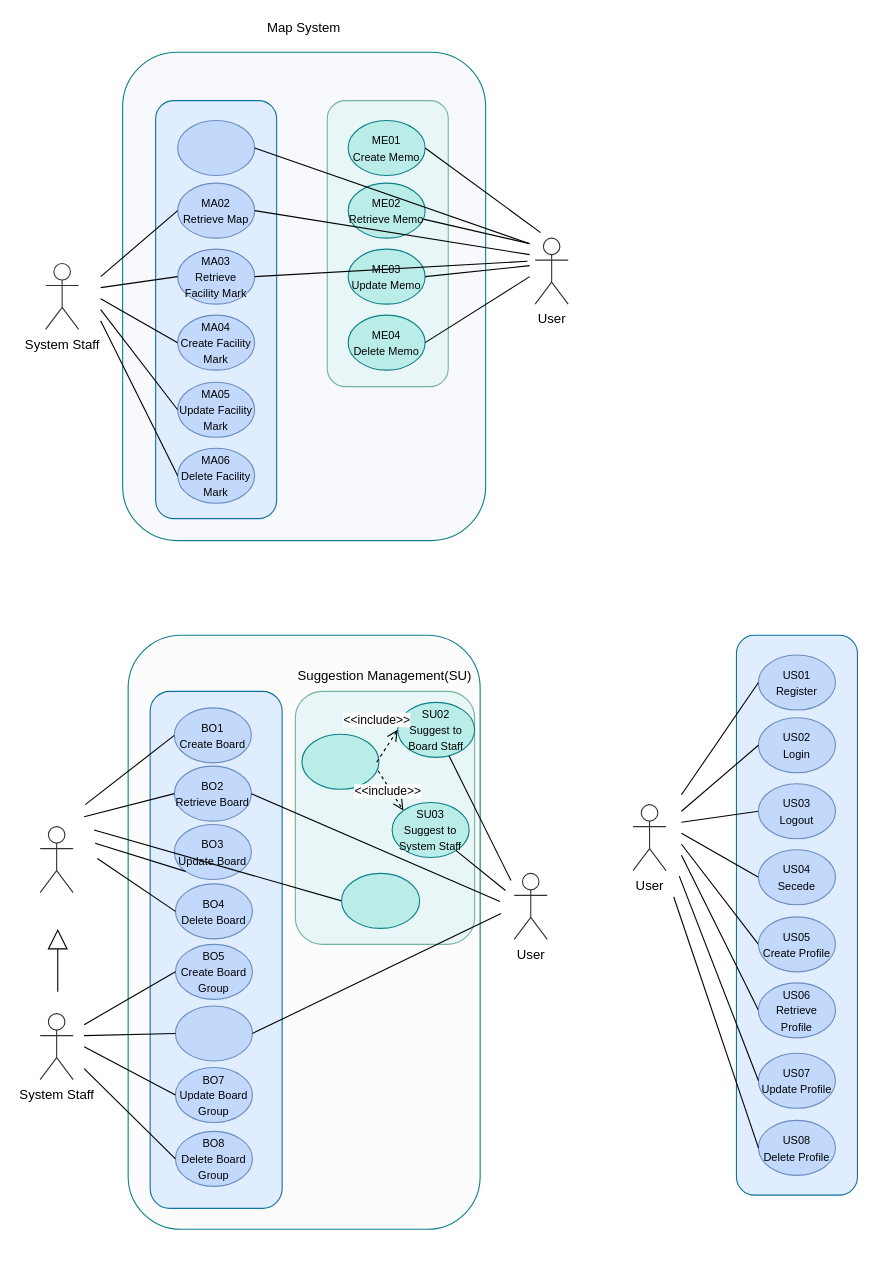
Image size: 877x1283. Some labels were removed from this diagram. The shapes that lost their labels are listed below. From the top down, each one's box as (x1, y1, x2, y2) in pixels, then its label:
(177, 119, 255, 175): MA01 Get Direction
(326, 100, 448, 387): Memo Management(ME)
(155, 100, 277, 519): Map Management(MA)
(301, 733, 379, 789): SU01 Suggest
(39, 826, 73, 893): Board Staff
(340, 872, 420, 928): SU04 Receive Suggestion
(735, 634, 857, 1195): User Management(US)
(149, 690, 282, 1208): Board Management(BO)
(127, 634, 480, 1229): Board System
(174, 1005, 252, 1061): BO6 Retrieve Board Group
